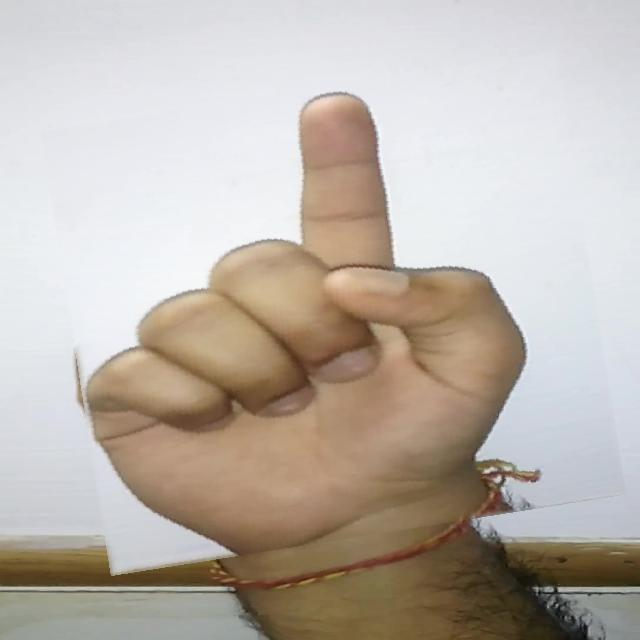I: (57, 69, 610, 557)
